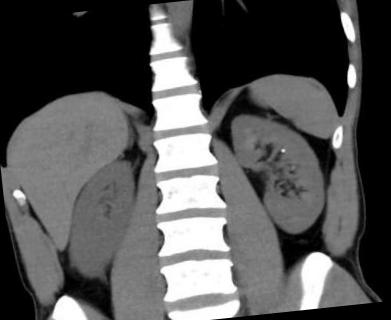Tas_Var: (279, 146, 287, 154)
